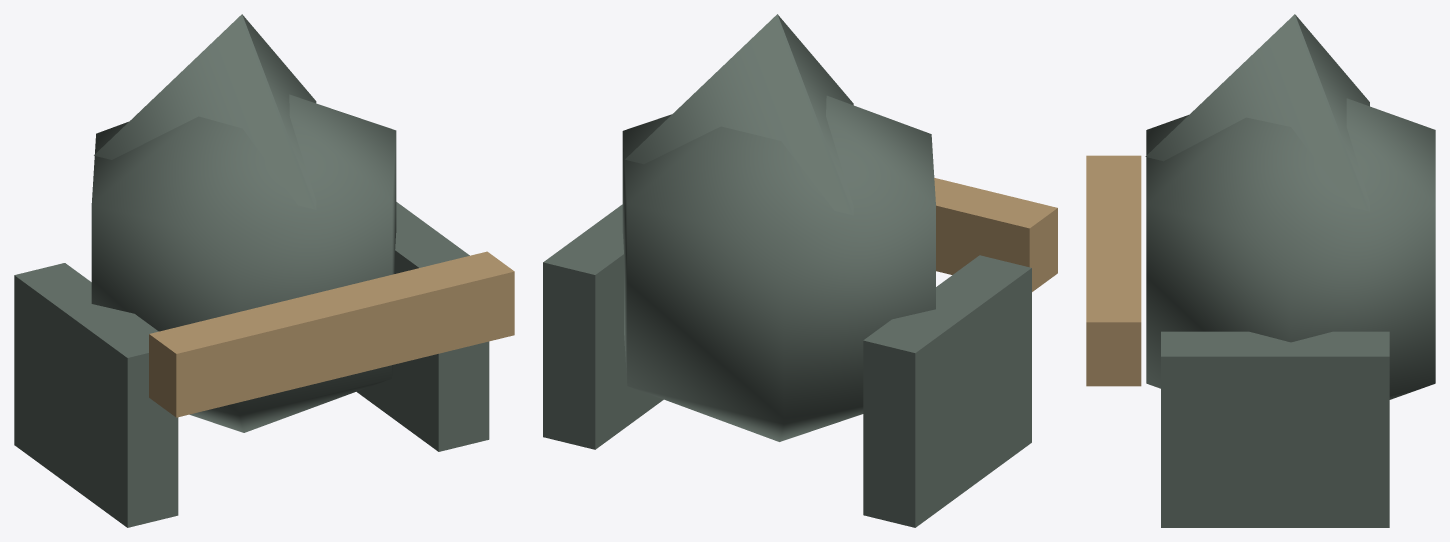
The model's file is fixed-cap-lod2.glb.
The picture shows the model from 3 angles, left to right: view 1: azimuth 30°, elevation 25°; view 2: azimuth 150°, elevation 25°; view 3: azimuth 270°, elevation 25°; orthographic projection. The views are drawn at different scales.
Parts seen in each view (by area): view 1: piece_hood; view 2: piece_hood; view 3: piece_hood.
Boxes of the visible parts, box(x1,y1,x2,y2) form: piece_hood: box(14, 14, 514, 527); piece_hood: box(543, 14, 1057, 527); piece_hood: box(1086, 14, 1435, 527).
Bounding box in the file's own units: 0.535 × 0.595 × 0.4438.
